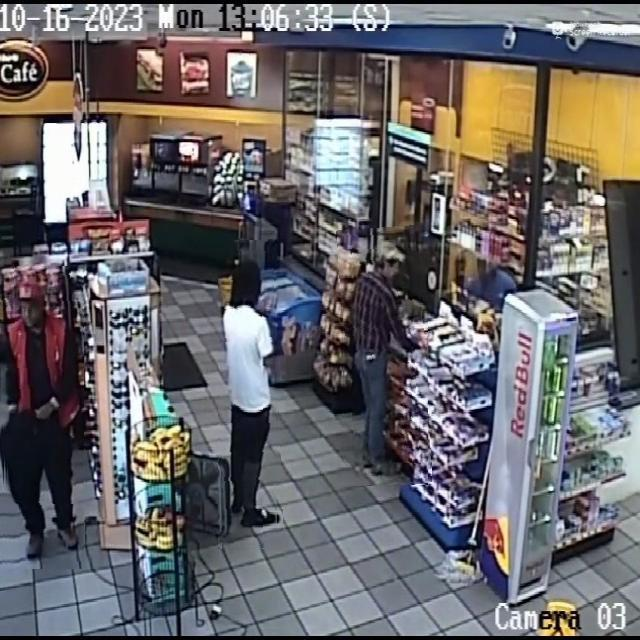Normal: (1, 266, 84, 569), (341, 226, 428, 485), (218, 240, 281, 549)
